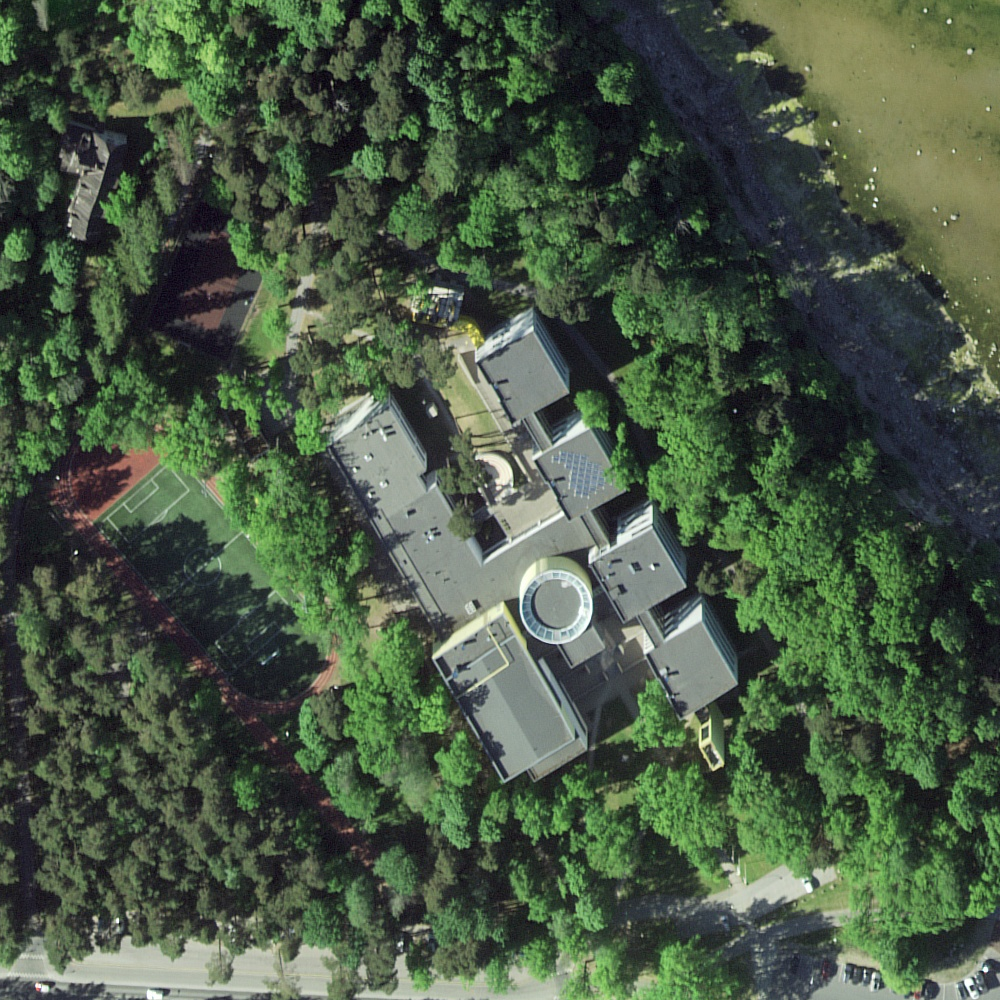building: (324, 331, 739, 786), (59, 124, 128, 245)
